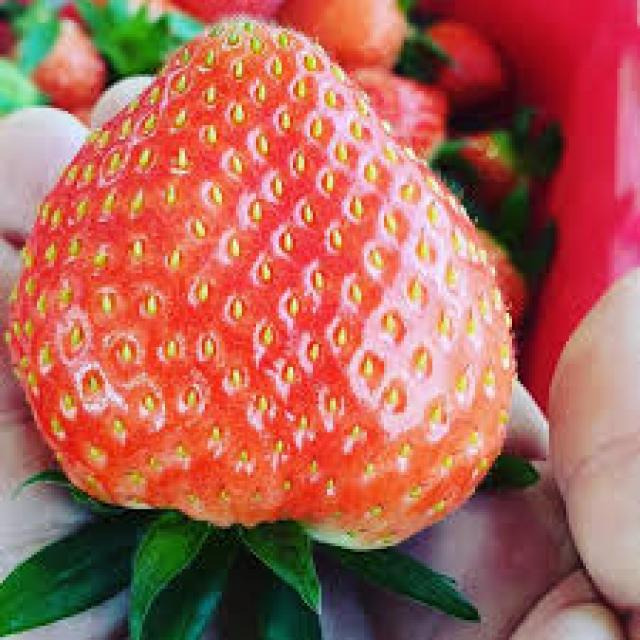mature: (4, 19, 512, 550)
